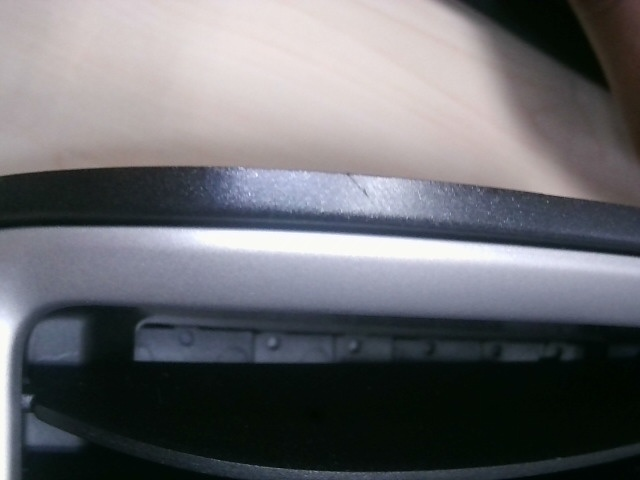NG: (338, 160, 376, 208)
